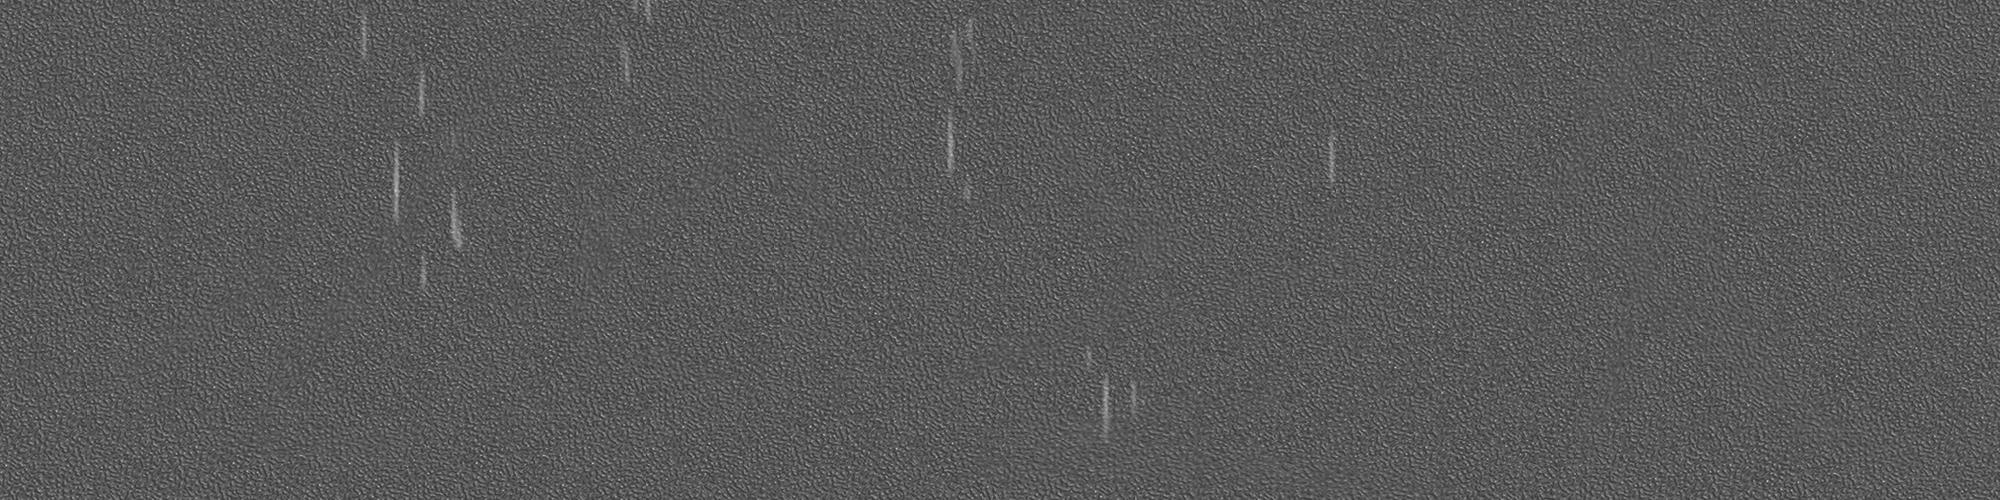Streaks: (946, 15, 978, 94), (384, 139, 408, 230), (446, 166, 469, 255), (1098, 369, 1121, 457), (409, 46, 434, 122), (614, 36, 645, 92), (1324, 115, 1342, 196), (416, 230, 434, 302), (1124, 372, 1145, 431), (355, 8, 375, 61), (941, 105, 957, 175), (440, 119, 459, 159), (1082, 335, 1097, 375), (634, 3, 657, 28), (958, 173, 974, 203)
